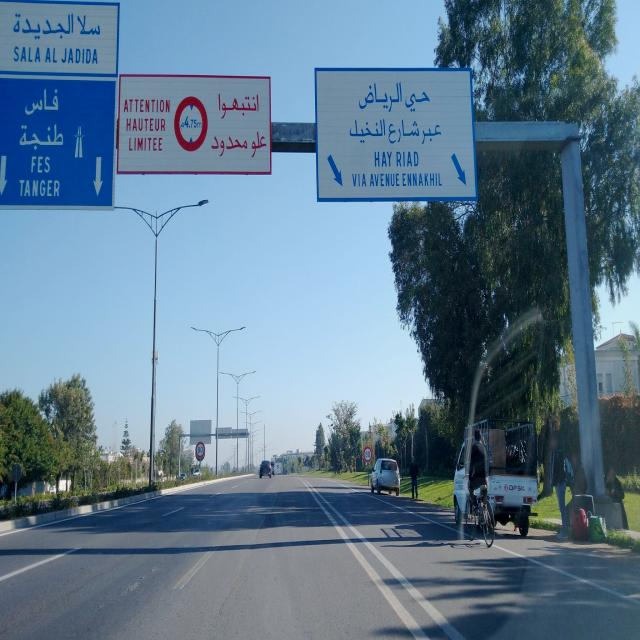bike: (458, 470, 496, 549)
car: (370, 457, 401, 496), (258, 459, 274, 479)
